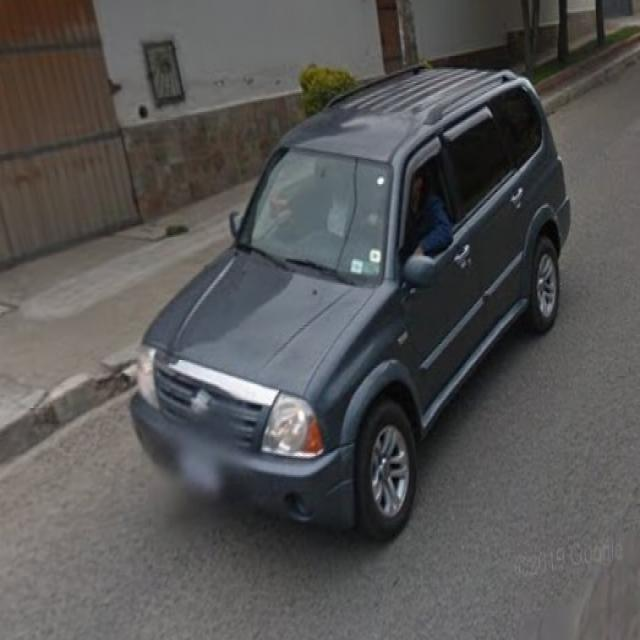Car: (91, 51, 584, 581)
